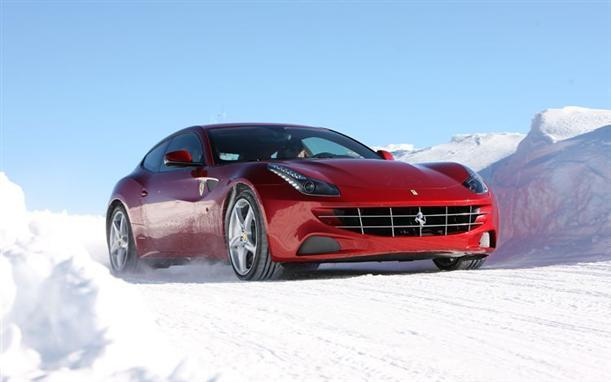car: (107, 117, 501, 280)
